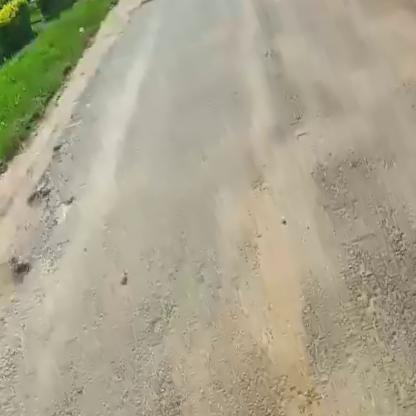pothole: (20, 184, 57, 214)
